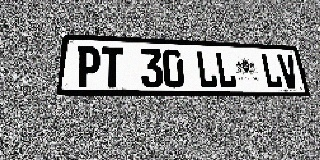0: (162, 49, 185, 88)
3: (141, 48, 163, 88)
L: (214, 51, 238, 88), (195, 51, 218, 88), (260, 53, 283, 88)
P: (75, 45, 101, 87)
T: (100, 47, 124, 87)
V: (277, 54, 300, 88)
